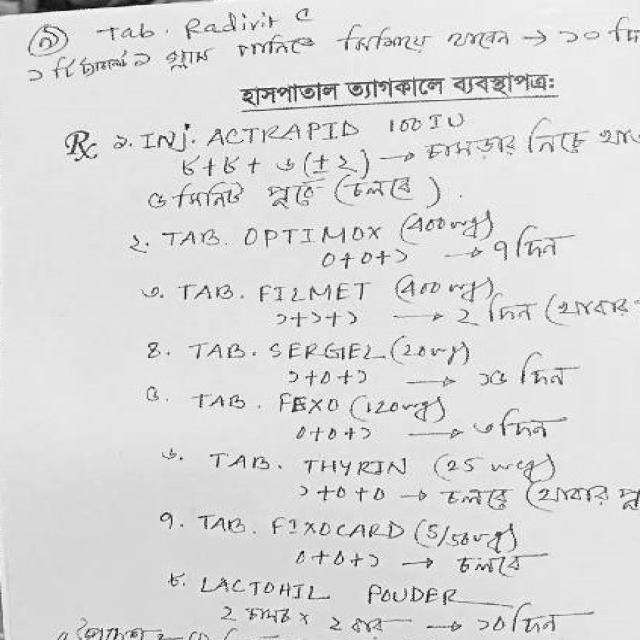medicine: (202, 117, 366, 152), (193, 569, 340, 605), (264, 512, 406, 544), (238, 220, 386, 250), (248, 276, 378, 310), (260, 334, 386, 366), (296, 452, 414, 479), (269, 387, 348, 419)
